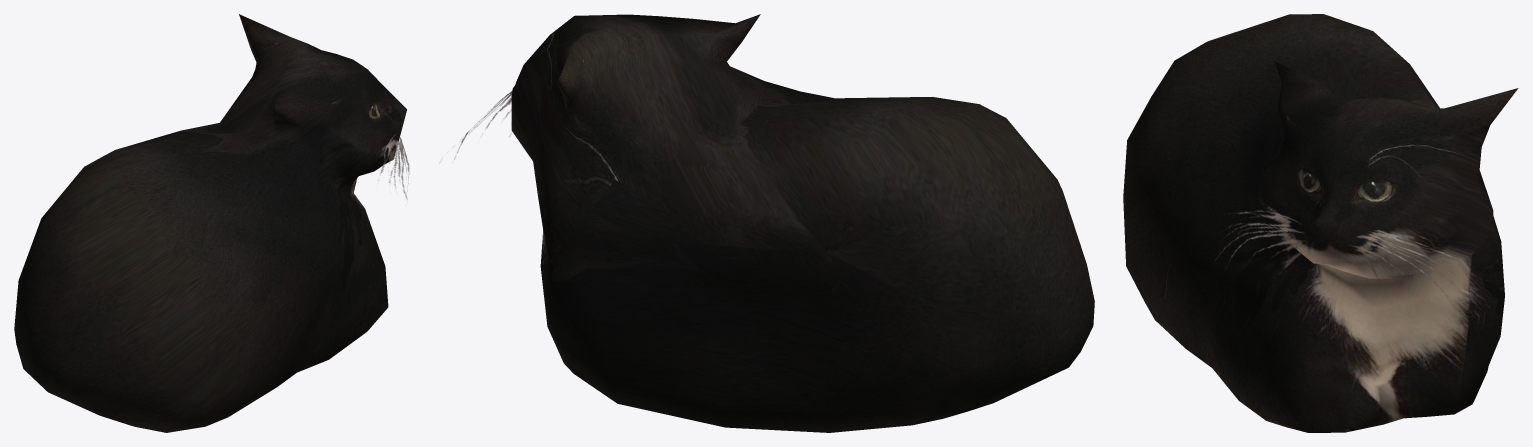
File: cat.glb
3 renders of one model, left to right at view 1: azimuth 30°, elevation 25°; view 2: azimuth 150°, elevation 25°; view 3: azimuth 270°, elevation 25°, orthographic. The views are drawn at different scales.
Visible parts, largest first — view 1: dingus_whiskers_0; view 2: dingus_whiskers_0; view 3: dingus_whiskers_0.
Part boxes in pixels (x1,y1,x2,y2): dingus_whiskers_0: (14,14,409,432); dingus_whiskers_0: (440,14,1094,432); dingus_whiskers_0: (1123,14,1518,432).
Size of what is drawn, in the model's own units: 0.5469 by 0.3417 by 0.353.
Materials: 2 (2 with a texture image).
